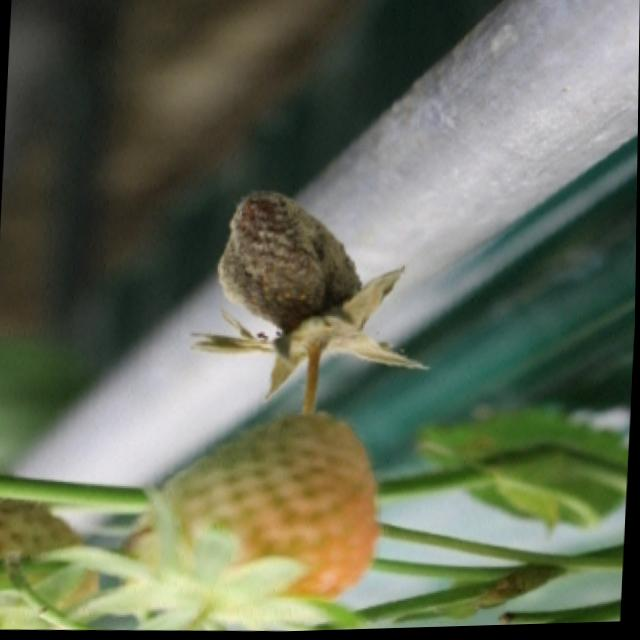Gray Mold: (189, 187, 433, 416)
